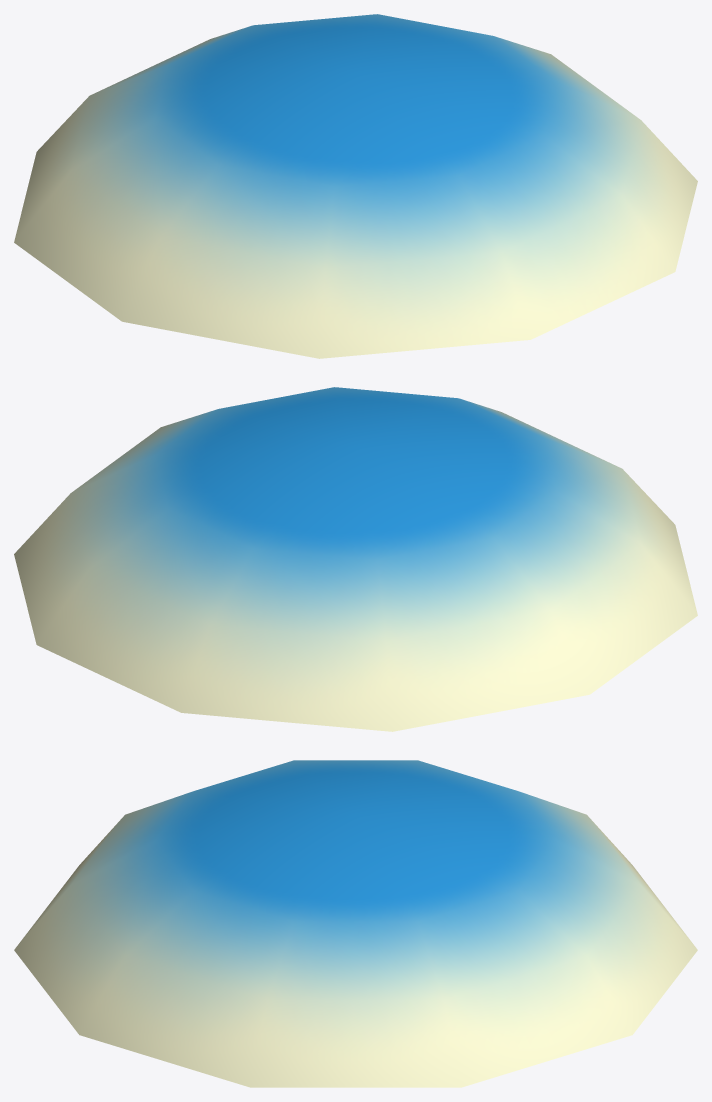
File: Night_env.FBX
The picture shows the model from 3 angles, top to bottom: view 1: azimuth 30°, elevation 25°; view 2: azimuth 150°, elevation 25°; view 3: azimuth 270°, elevation 25°; orthographic projection. The views are drawn at different scales.
Parts seen in each view (by area): view 1: sky dome; view 2: sky dome; view 3: sky dome.
Part boxes in pixels (x1,y1,x2,y2): sky dome: [14, 14, 697, 358]; sky dome: [14, 387, 697, 731]; sky dome: [14, 760, 697, 1087].
Size of the model in its own units: 51804 by 11839 by 54470.
